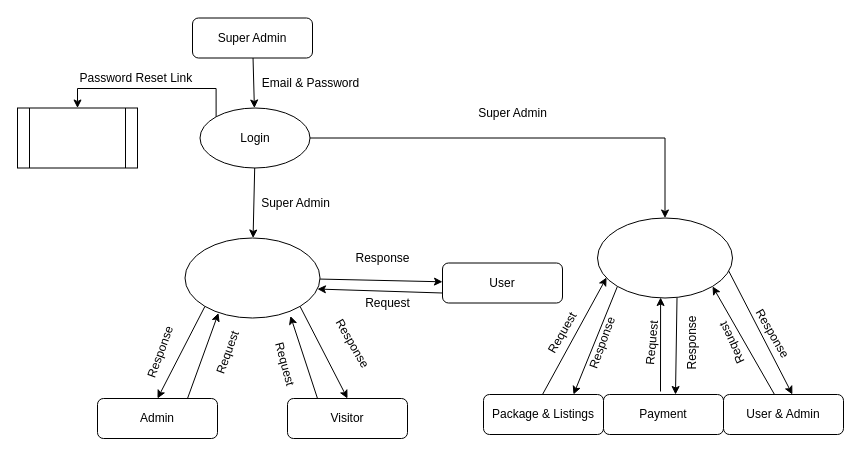
This 861x464 diagram has some shape labels left out. Here are the shapes that lost their labels. From the top down, the centre of each, then its label:
At [77,137]: "Reset Password".
At [252,277]: "Tour & Travel Managment System".
At [664,257]: "Managment System".
